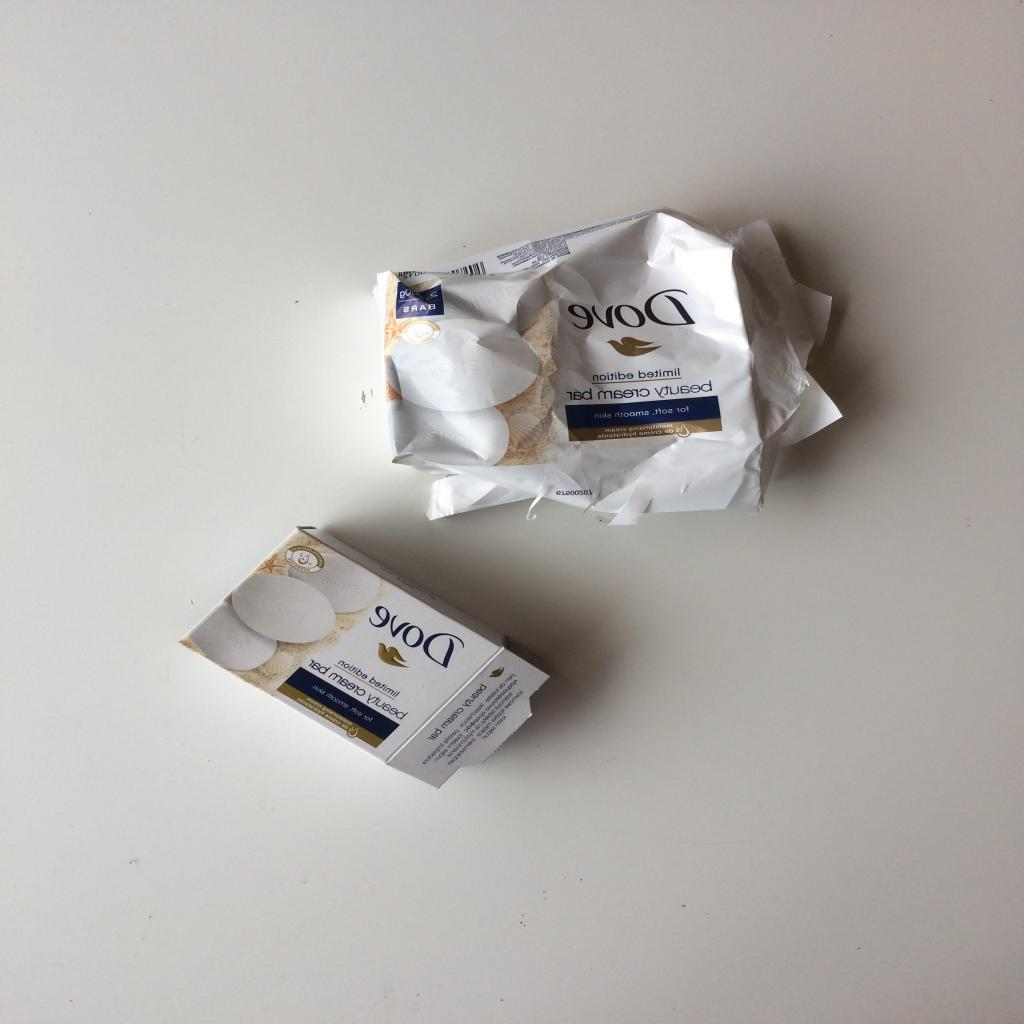Other carton: (178, 527, 554, 789)
Plastic film: (373, 207, 843, 526)
